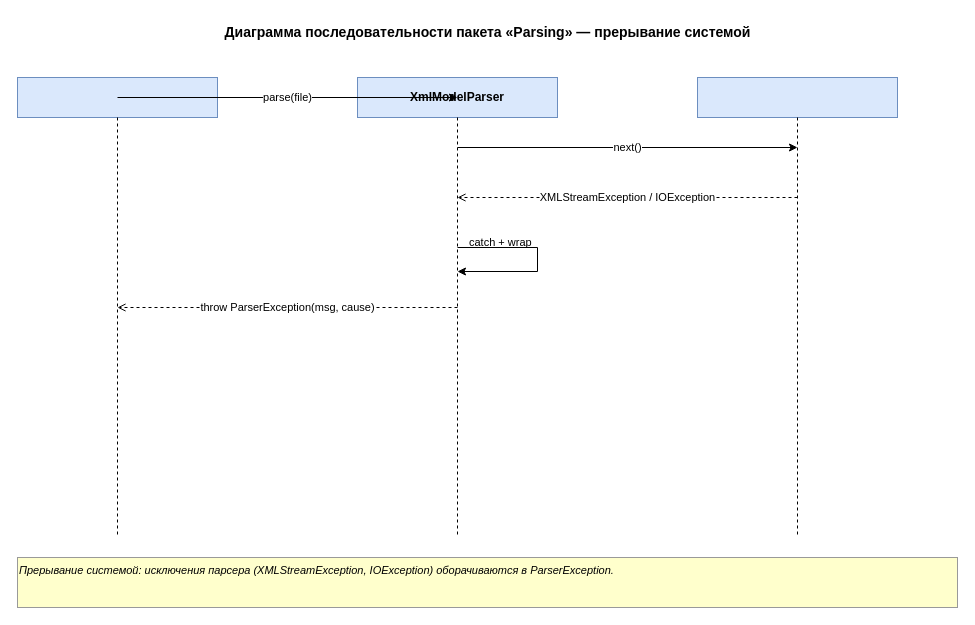
This 975x625 diagram has some shape labels left out. The shapes that lost their labels are listed below. From the top down, each one's centre as x and y in pixels, then its label:
(x=117, y=97): MainController
(x=797, y=97): XMLStreamReader
